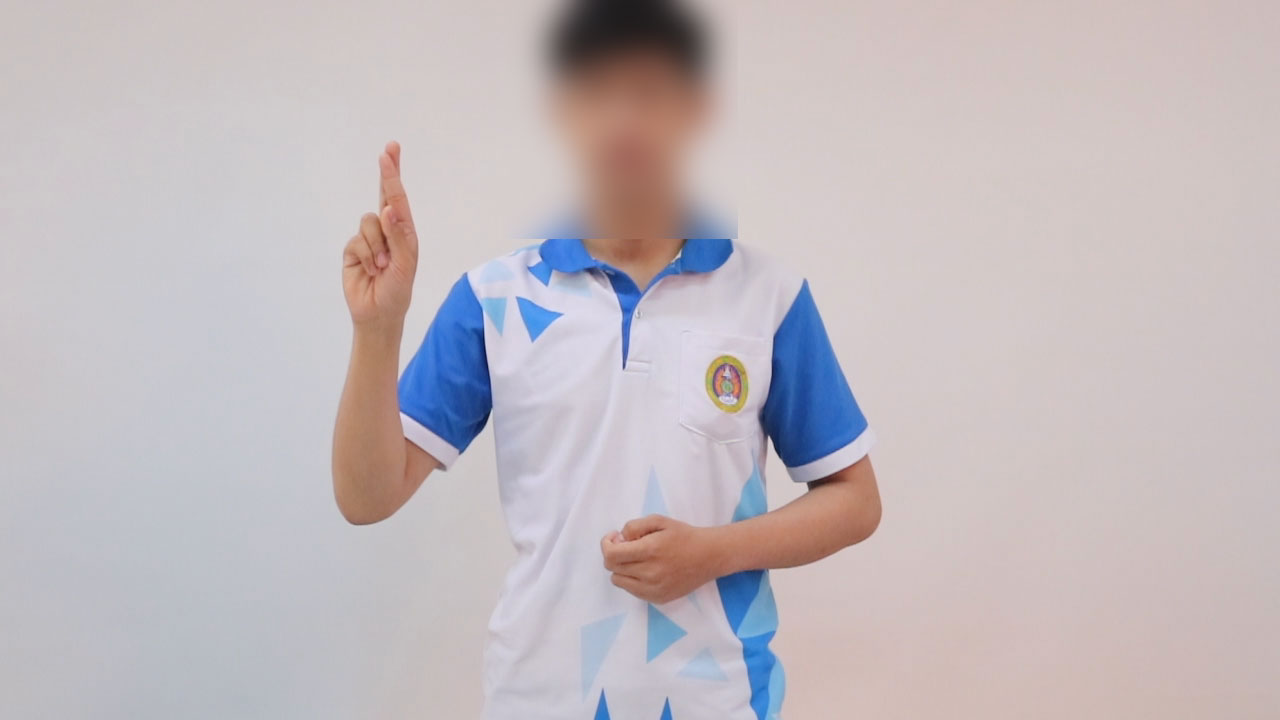rao: (326, 132, 435, 339)
